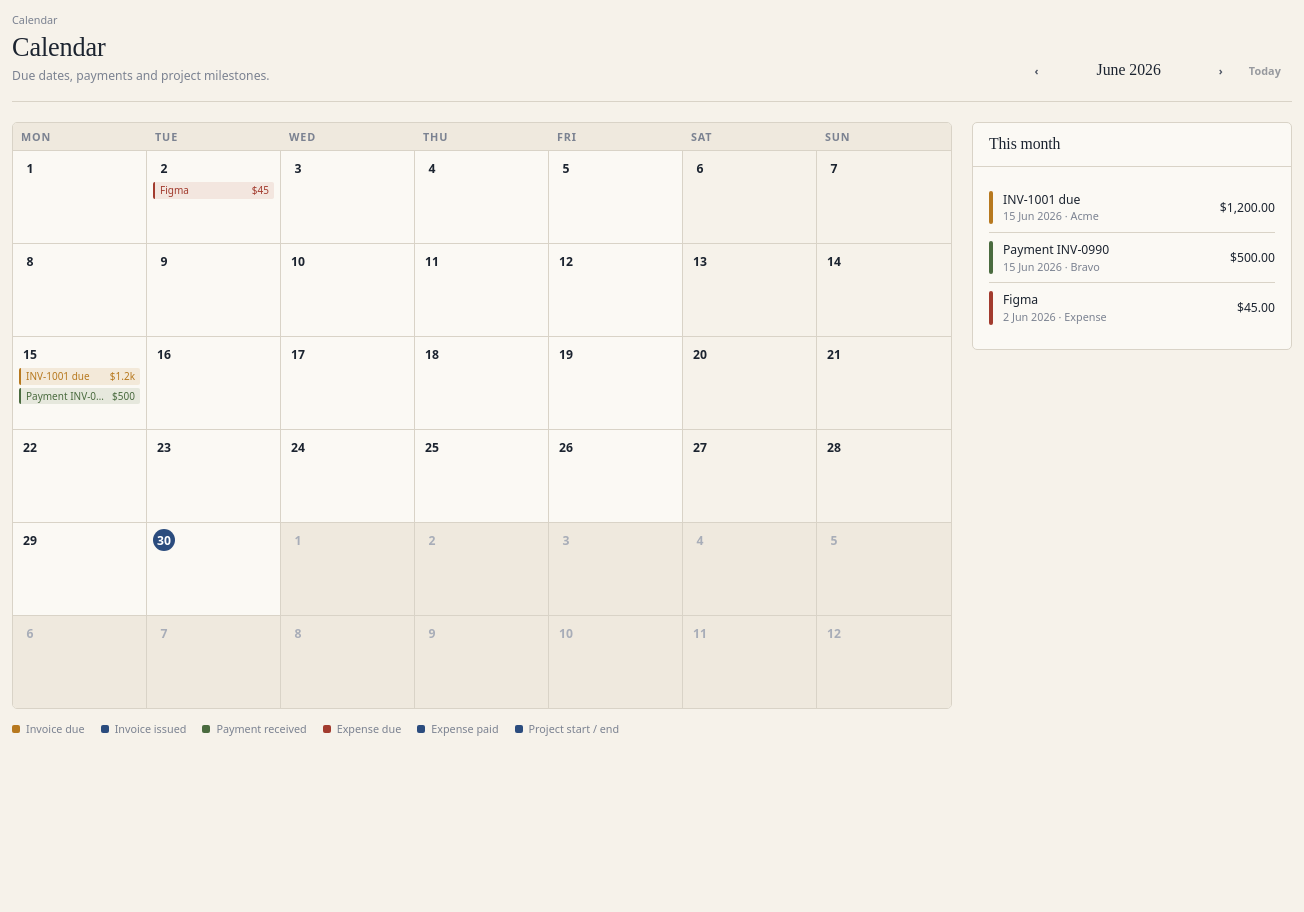
it: CalendarPage › loads the month from the URL, lists events and opens the day panel on click
The image size is (1304, 912).
Expected: the text "June 2026" is shown, [1096, 61, 1161, 78]
Expected: the text "INV-1001 due" is shown, [26, 370, 90, 384]
Click the cell "15 INV-1001 due $1.2k Payment INV-0990 $500".
click(80, 384)  # box [13, 338, 147, 430]
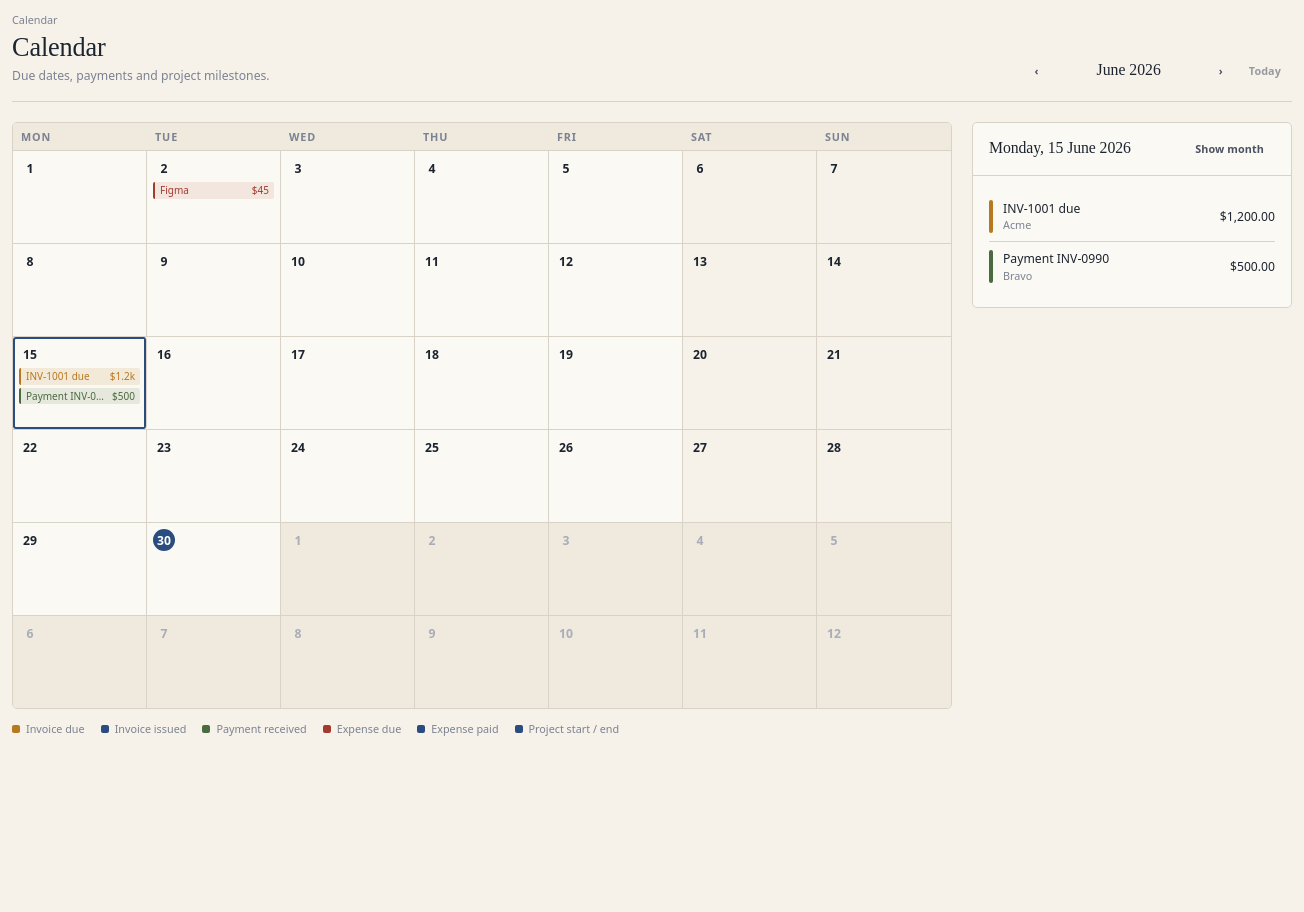
Result: the heading "Monday, 15 June 2026" is shown at [989, 139, 1131, 158]
Click the button named "Previous month".
click(1037, 71)  # box [1024, 57, 1050, 85]
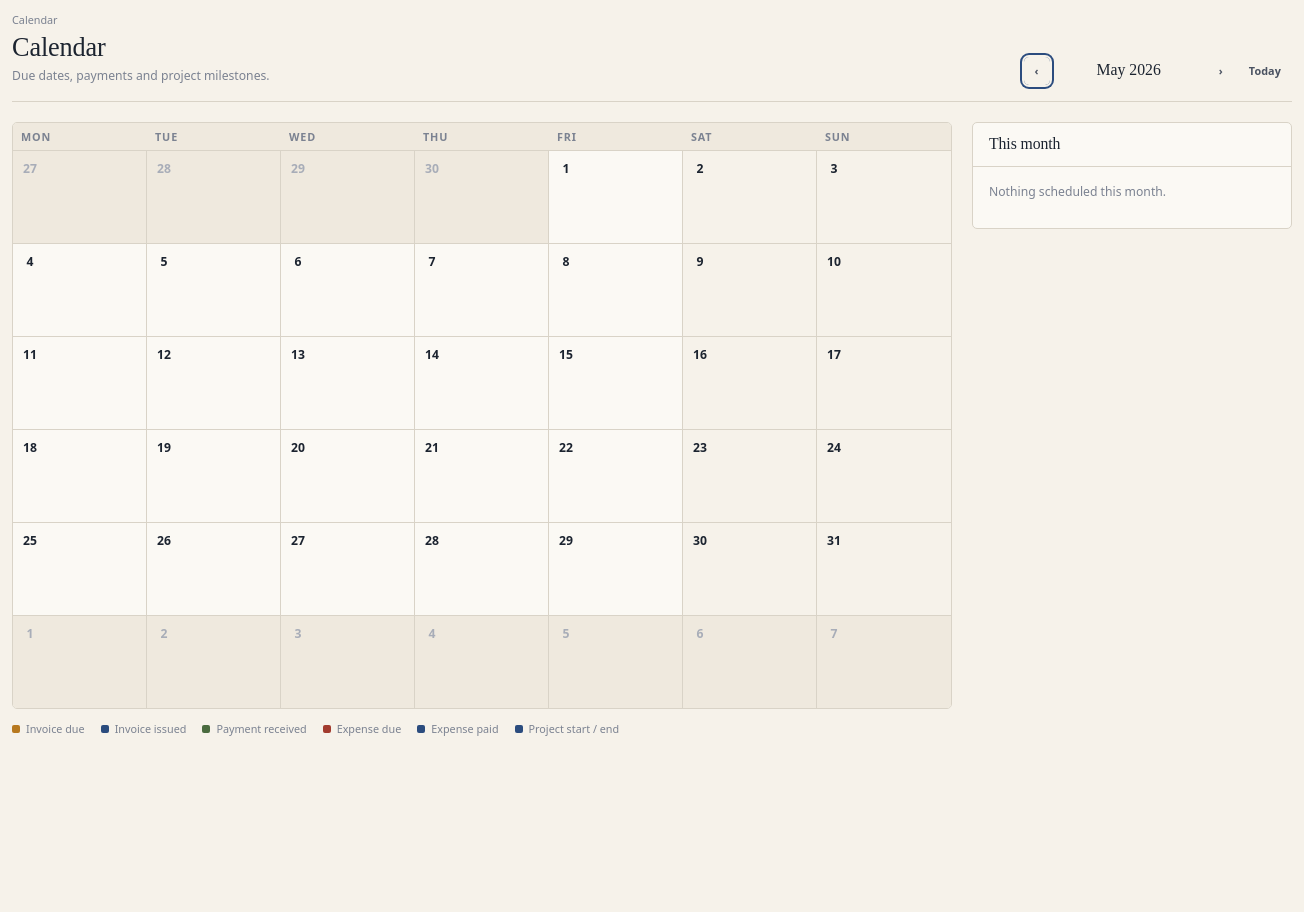
Result: the text "May 2026" is shown at [1096, 61, 1161, 78]
